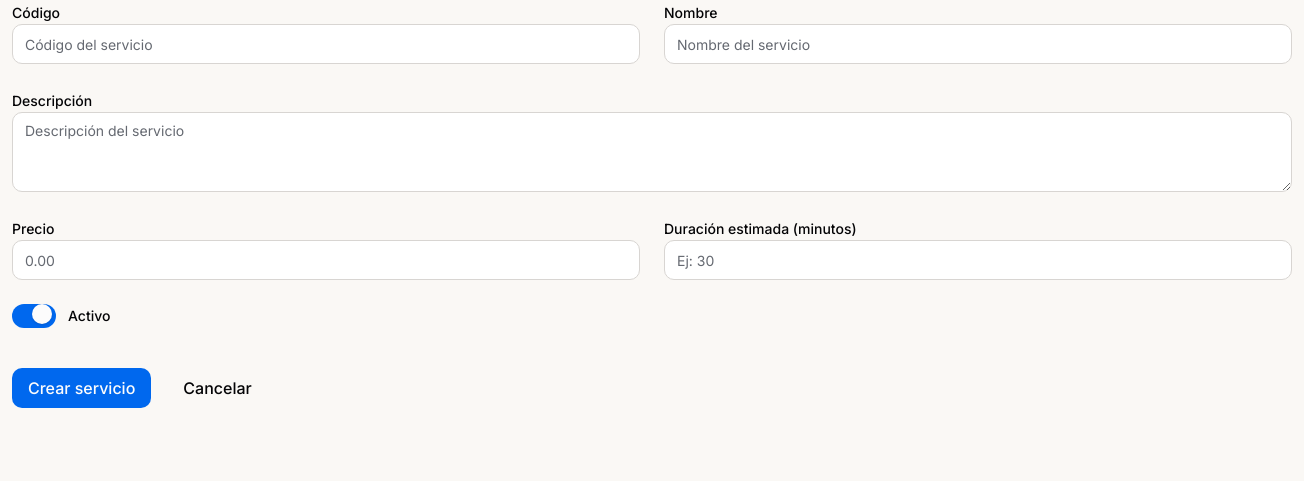
Test: ServiceForm › shows validation errors for required fields
Click the button "Crear servicio" at (82, 388), box 12,368 -> 151,408
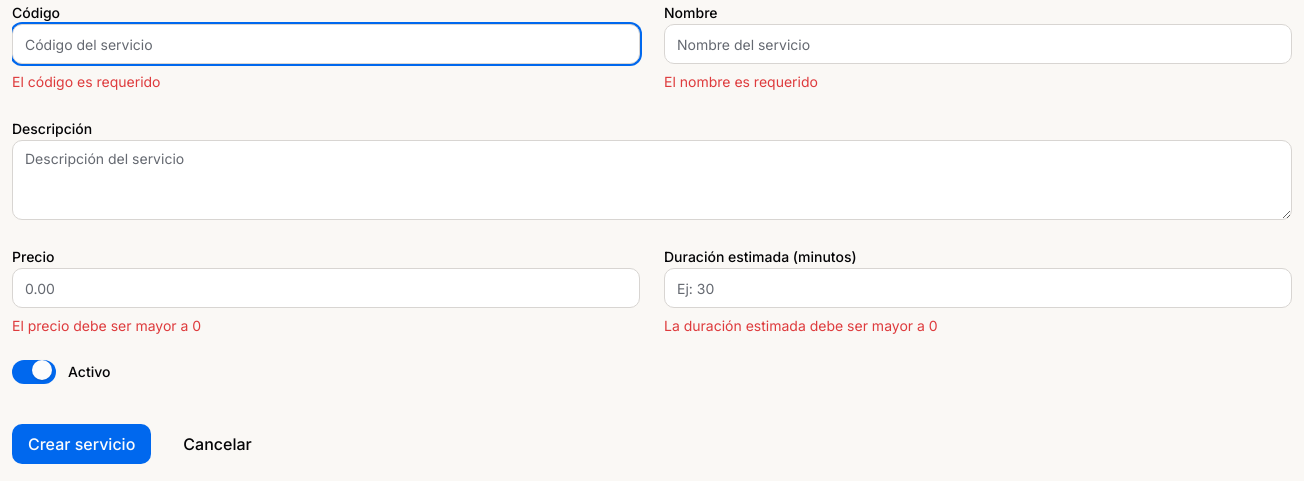
Expected: the text "El código es requerido" is shown, 12,73 -> 160,90
Expected: the text "El nombre es requerido" is shown, 664,73 -> 818,90
